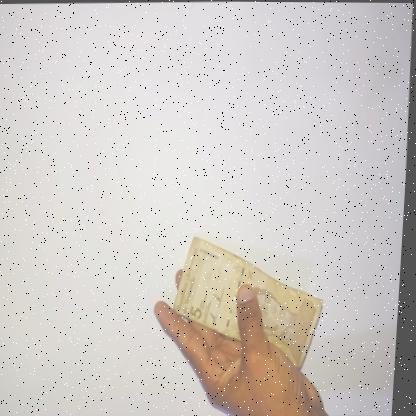five-front-vef: (171, 234, 332, 370)
